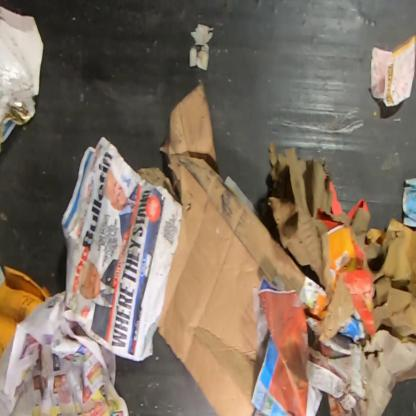cardboard: (137, 82, 306, 416), (260, 140, 415, 415)
